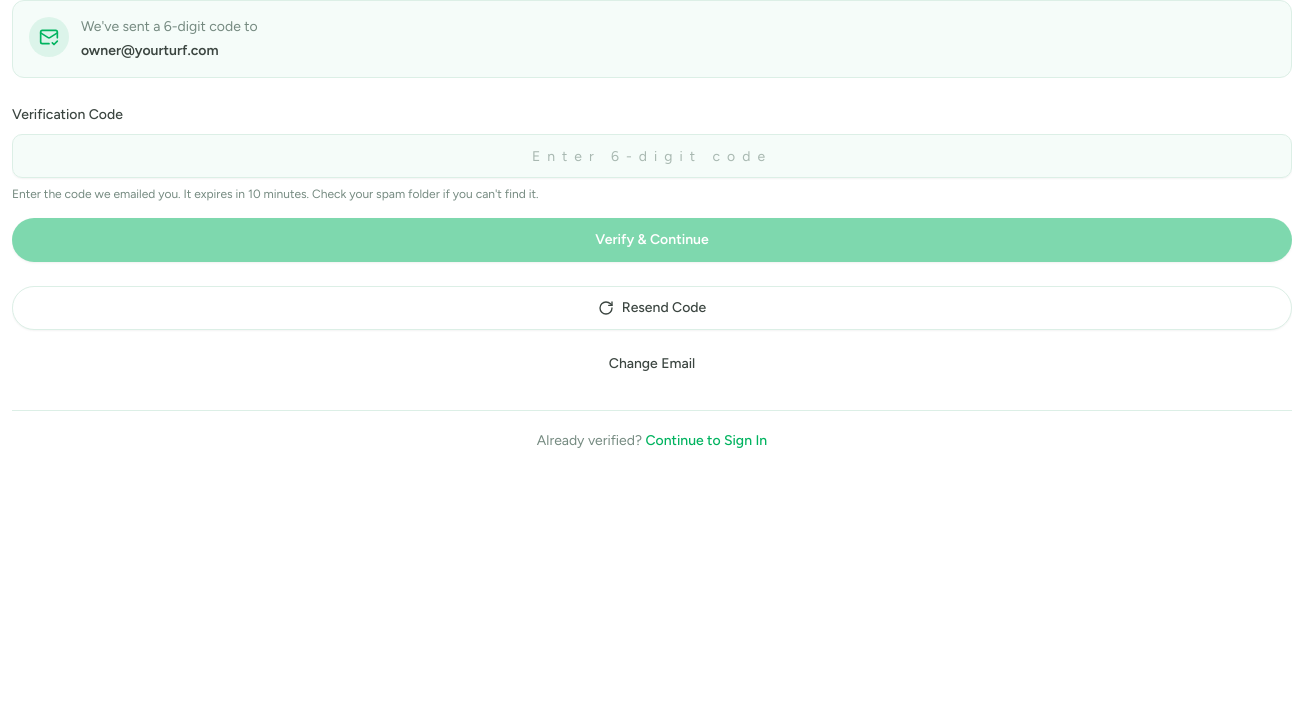
Test: VerifyEmailPanel › resends the email and then blocks repeat clicks with a countdown
The image size is (1304, 720).
Click the button "Resend Code".
click(652, 308)  # box [12,286,1292,330]
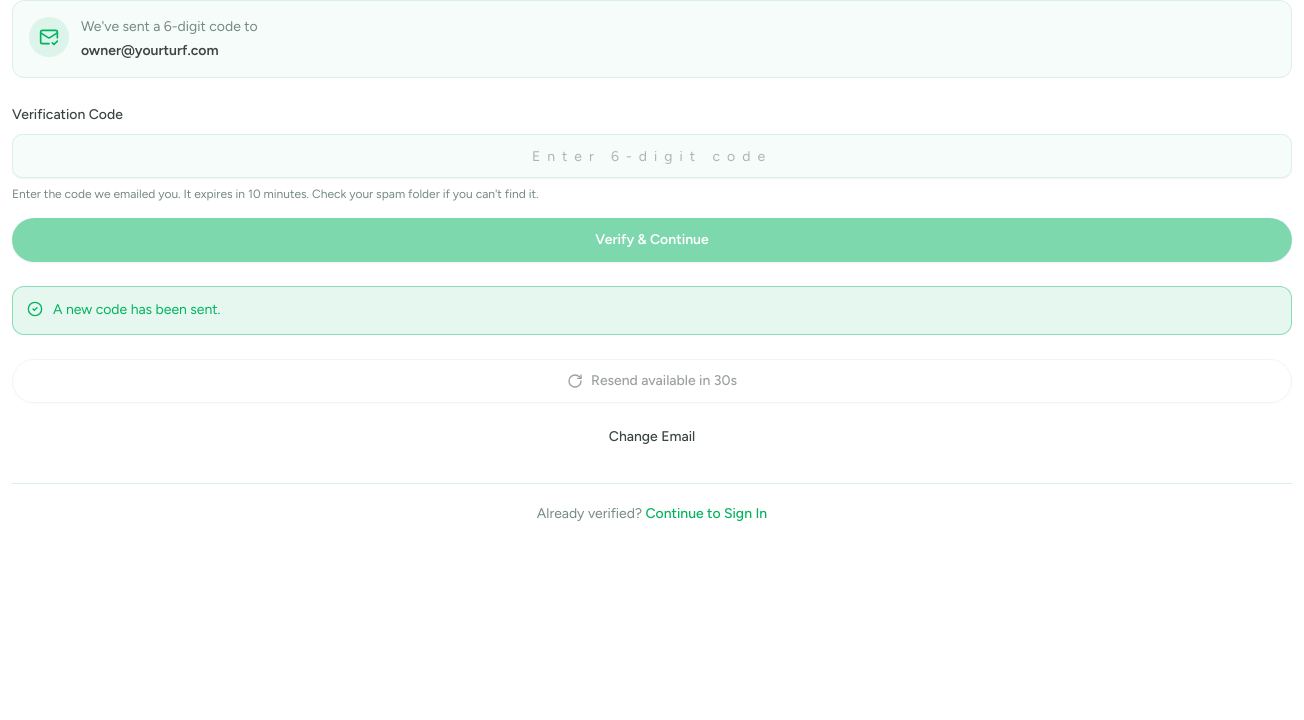
Now the text "A new code has been sent." is shown, box [53,299,220,322]
Now the button "Resend available in 30s" is disabled, box [12,359,1292,403]
